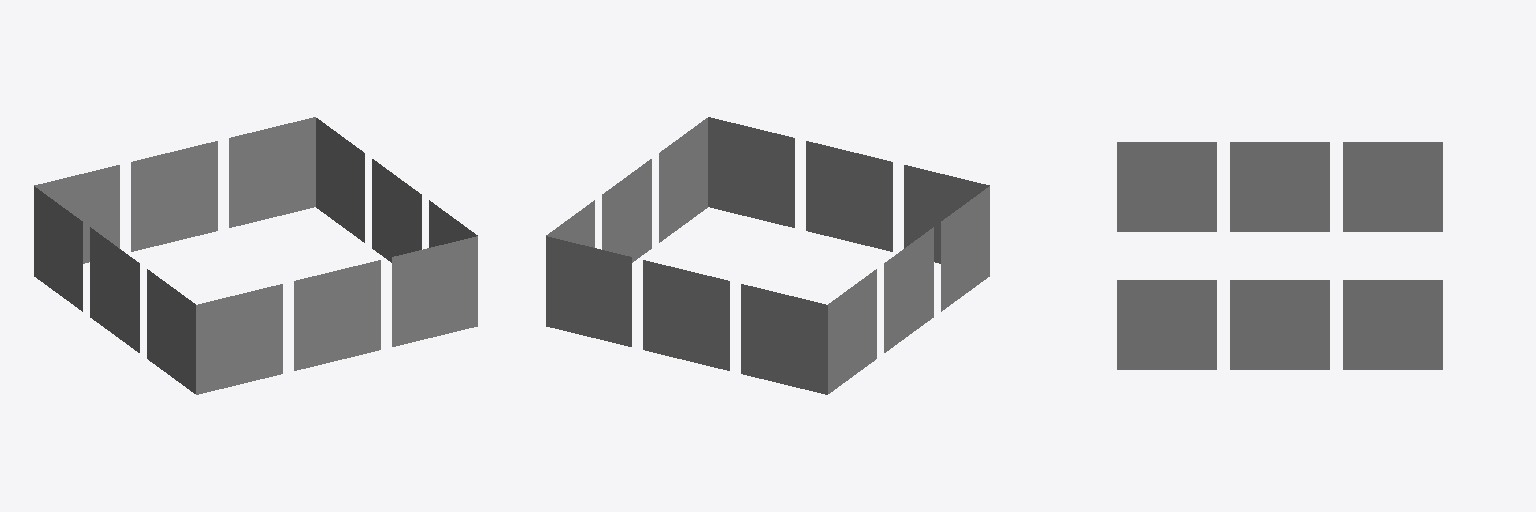
Rendered from workshop-walls.obj.
3 views of the same model, side by side, from view 1: azimuth 30°, elevation 25°; view 2: azimuth 150°, elevation 25°; view 3: azimuth 270°, elevation 25° (orthographic).
Visible parts, largest first — view 1: workshop.002_Plane.003; view 2: workshop.002_Plane.003; view 3: workshop.002_Plane.003.
Part boxes in pixels (left/top/right/bottom): workshop.002_Plane.003: left=34, top=117, right=477, bottom=394; workshop.002_Plane.003: left=546, top=117, right=989, bottom=394; workshop.002_Plane.003: left=1117, top=142, right=1442, bottom=369.
Bounding box in the file's own units: 9.8 × 3 × 9.8.